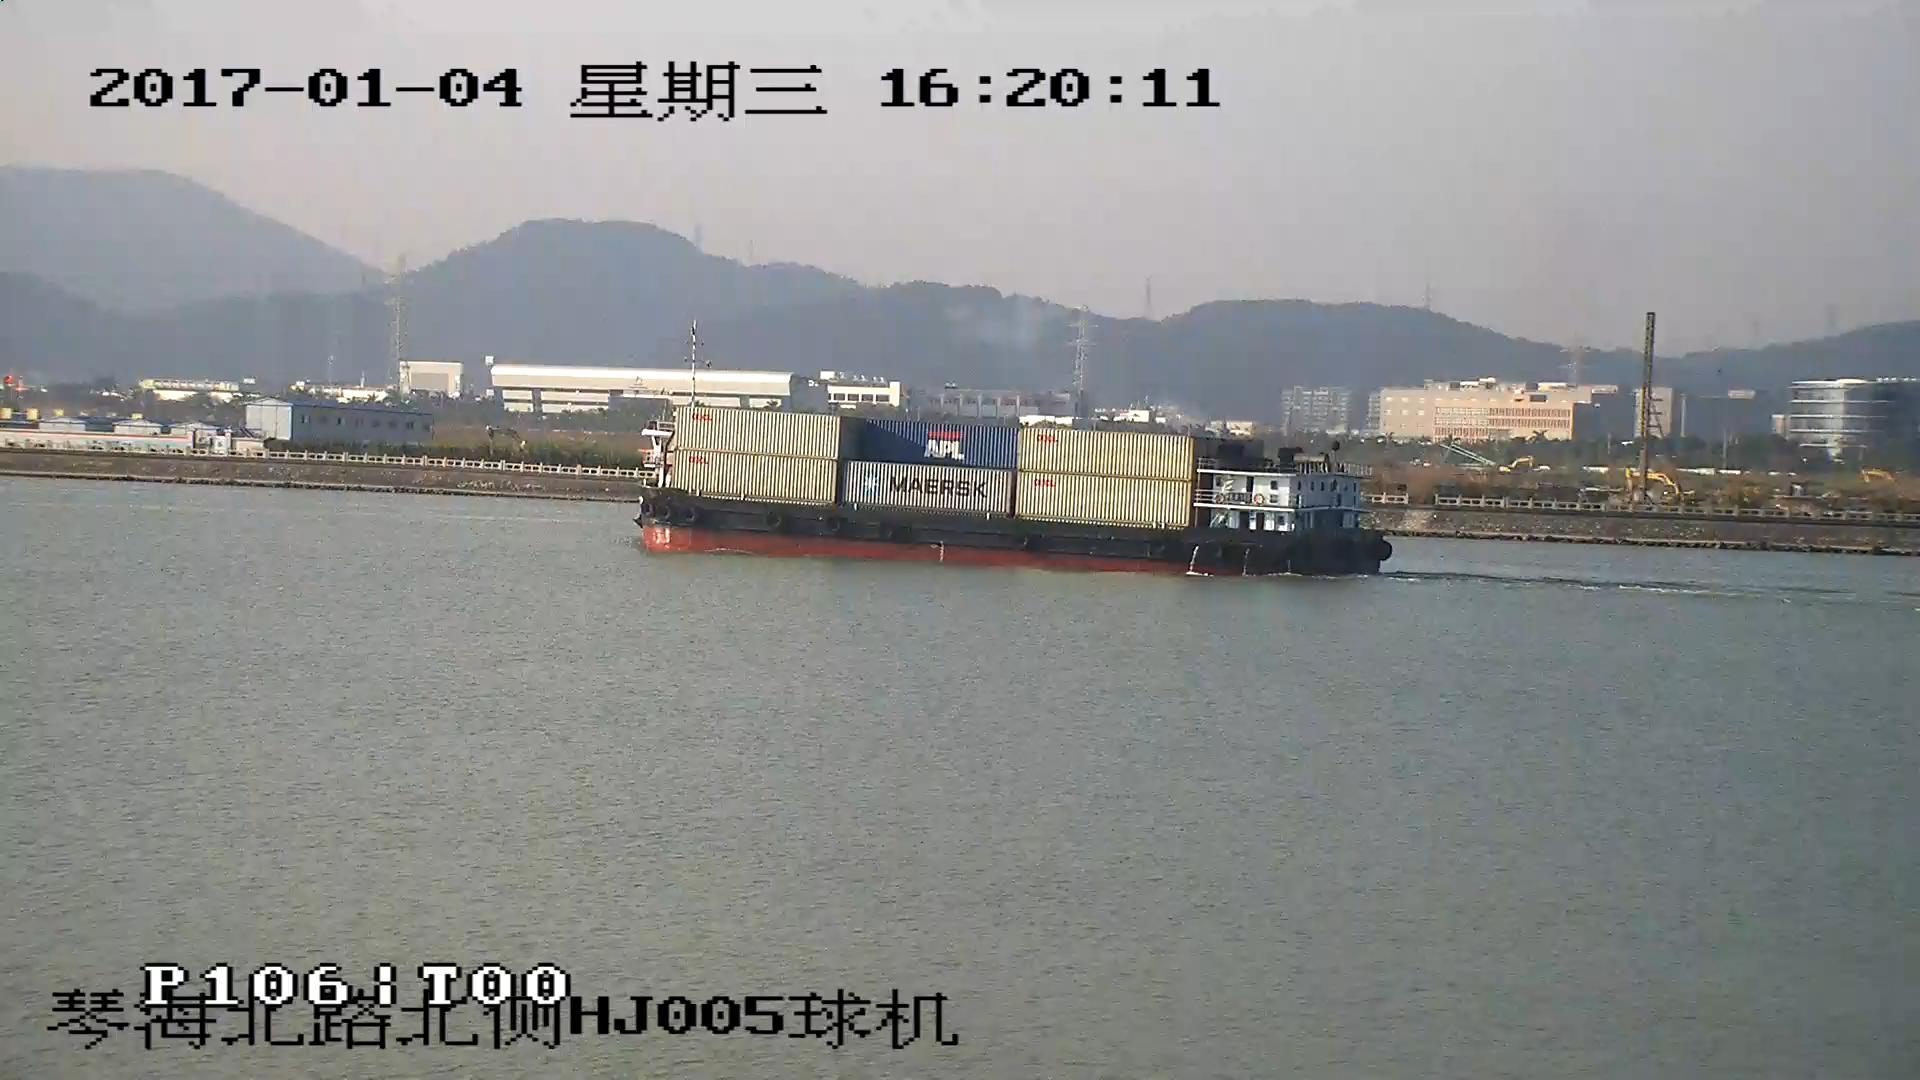Ship: (629, 406, 1393, 580)
